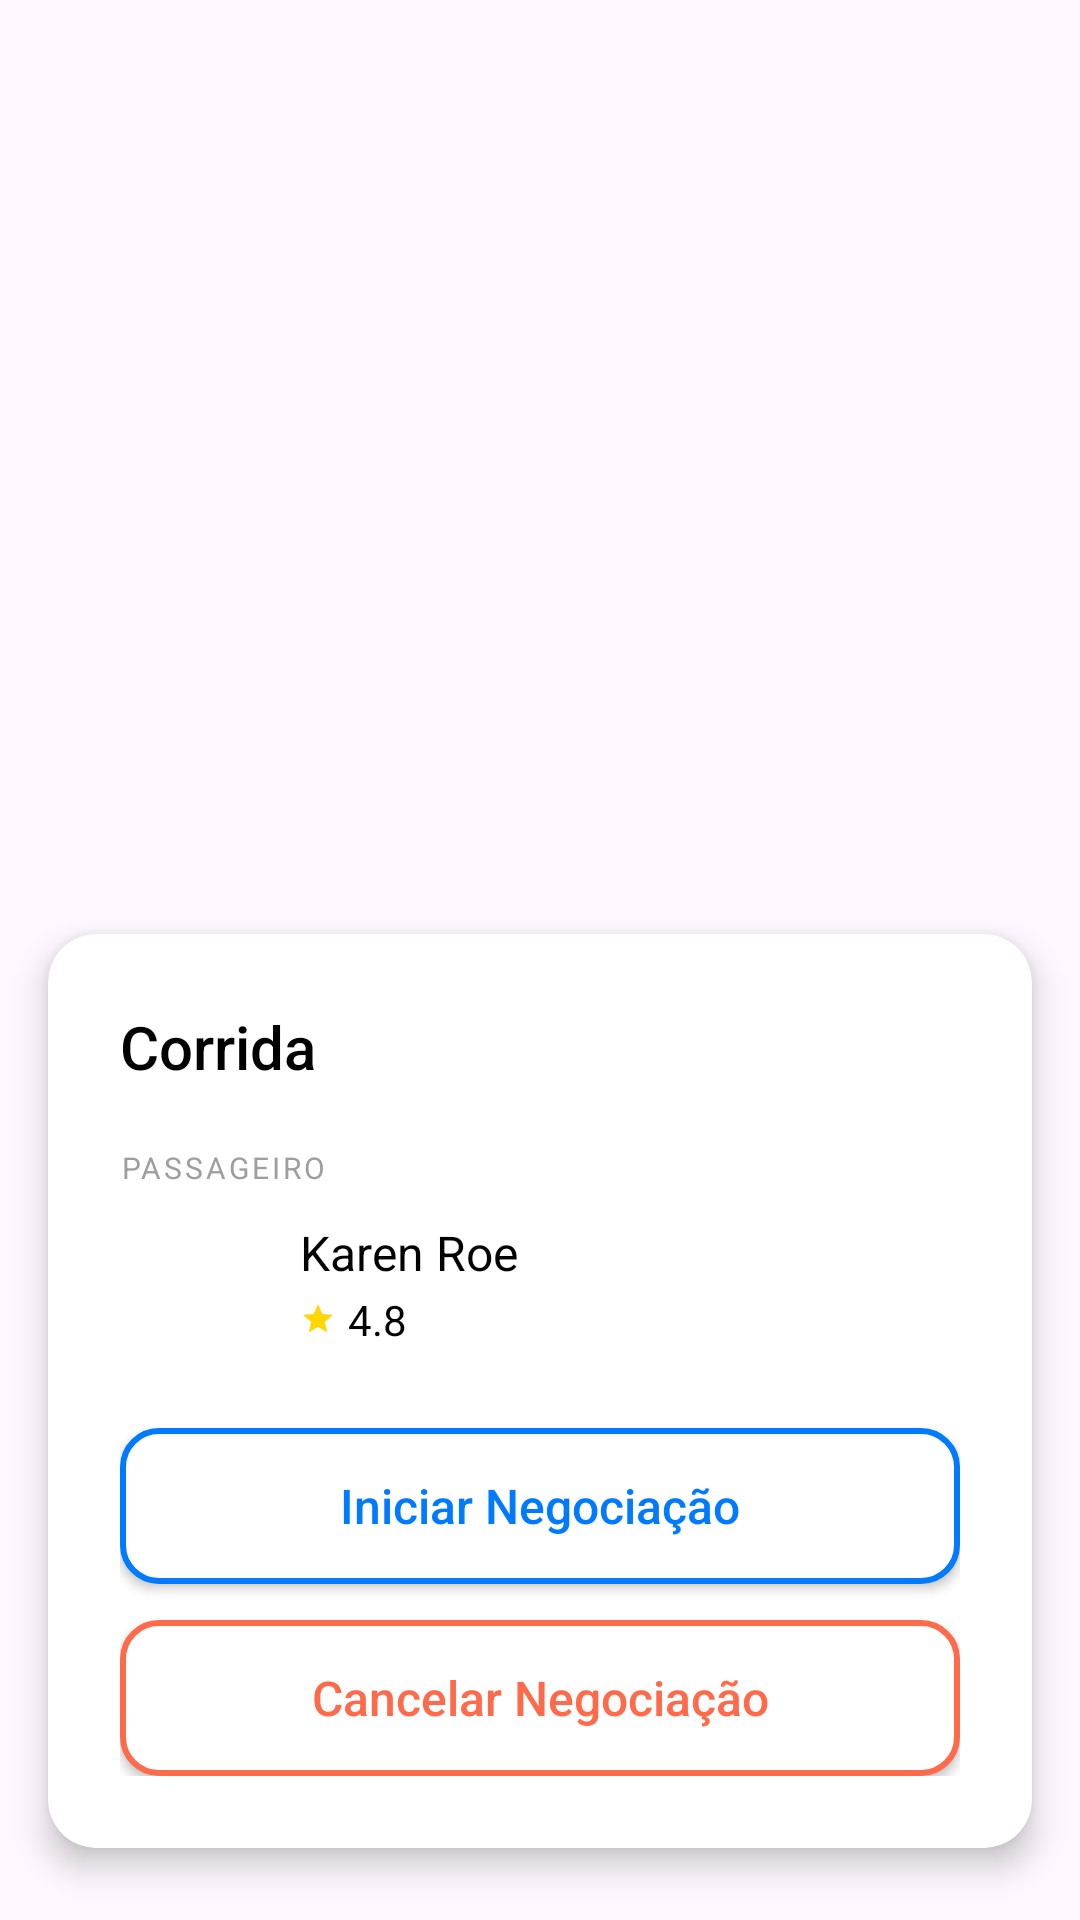

Screen size 1080x1920. Icon name, then its center in pixels as (x=x, y=y):
star: (x=318, y=1318)
